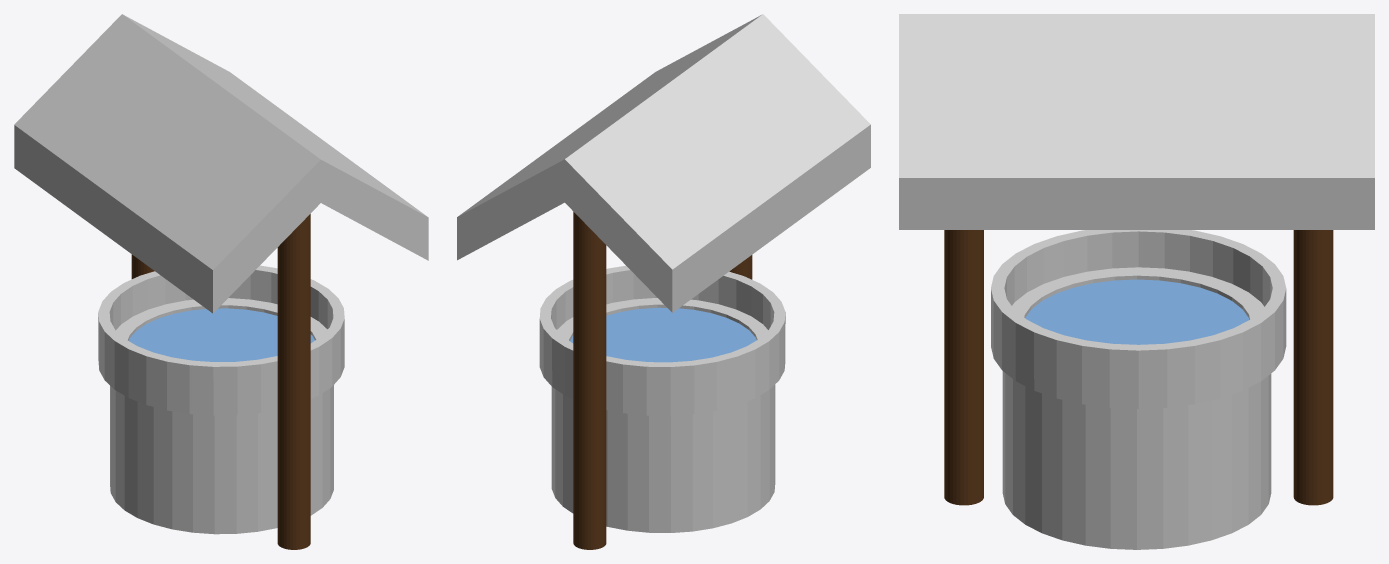
The model's file is poco_agua.fbx.
3 renders of one model, left to right at view 1: azimuth 30°, elevation 25°; view 2: azimuth 150°, elevation 25°; view 3: azimuth 270°, elevation 25°, orthographic. The views are drawn at different scales.
Parts seen in each view (by area): view 1: Cubo, Cilindro, Círculo, Cilindro.001, Cilindro.003; view 2: Cubo, Cilindro, Círculo, Cilindro.002, Cilindro.003; view 3: Cubo, Cilindro, Círculo, Cilindro.002, Cilindro.001, Cilindro.003.
Part boxes in pixels (box(x1,y1,x2,y2)): Cubo: box(14, 14, 428, 313); Cilindro: box(110, 298, 333, 534); Círculo: box(98, 265, 344, 415); Cilindro.001: box(277, 214, 310, 549); Cilindro.003: box(128, 308, 314, 361); Cubo: box(457, 14, 870, 312); Cilindro: box(551, 298, 775, 532); Círculo: box(539, 265, 785, 415); Cilindro.002: box(573, 212, 606, 549); Cilindro.003: box(570, 307, 756, 362); Cubo: box(899, 14, 1374, 229); Cilindro: box(1002, 267, 1271, 549); Círculo: box(991, 230, 1286, 408); Cilindro.002: box(1293, 230, 1333, 505); Cilindro.001: box(944, 230, 983, 505); Cilindro.003: box(1025, 279, 1249, 344).
Bounding box in the file's own units: 222 × 397 × 354.
